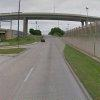Bridge: (1, 3, 96, 28)
